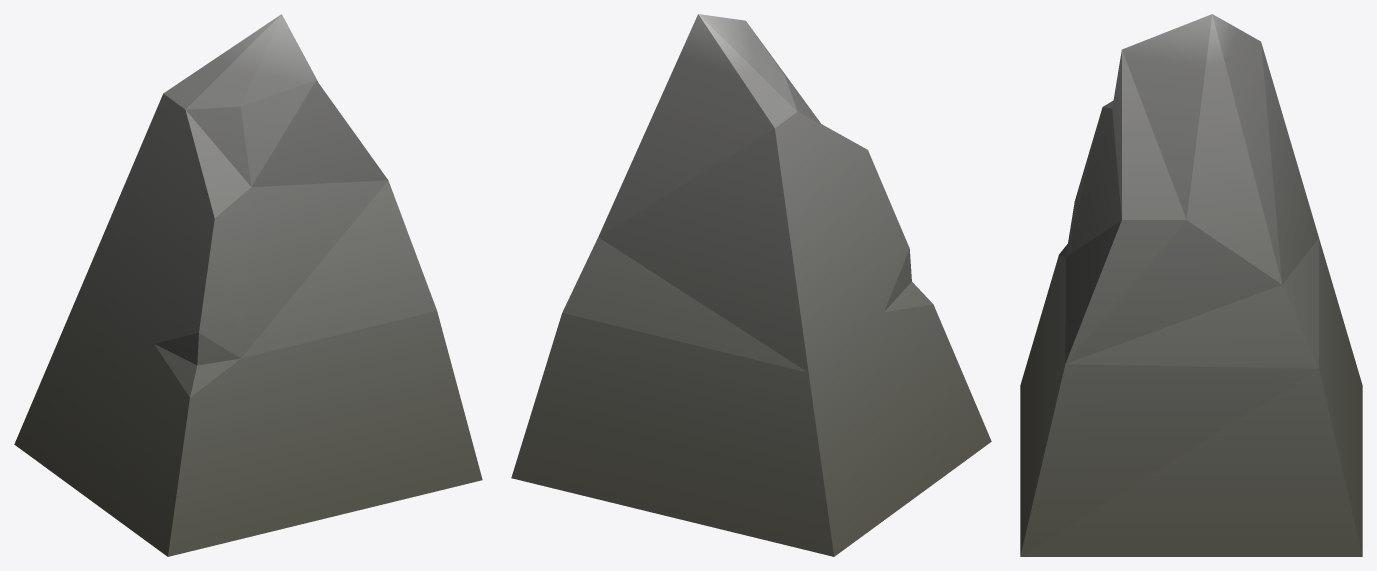
The model's file is Mountain_04.fbx.
3 views of the same model, side by side, from view 1: azimuth 30°, elevation 25°; view 2: azimuth 150°, elevation 25°; view 3: azimuth 270°, elevation 25° (orthographic). The views are drawn at different scales.
Parts seen in each view (by area): view 1: Mountain_04; view 2: Mountain_04; view 3: Mountain_04.
Boxes of the visible parts, x1,y1,x2,y2 form: Mountain_04: [14, 14, 482, 556]; Mountain_04: [511, 14, 991, 556]; Mountain_04: [1020, 14, 1362, 556].
Bounding box in the file's own units: 11.95 × 15.64 × 10.1.
